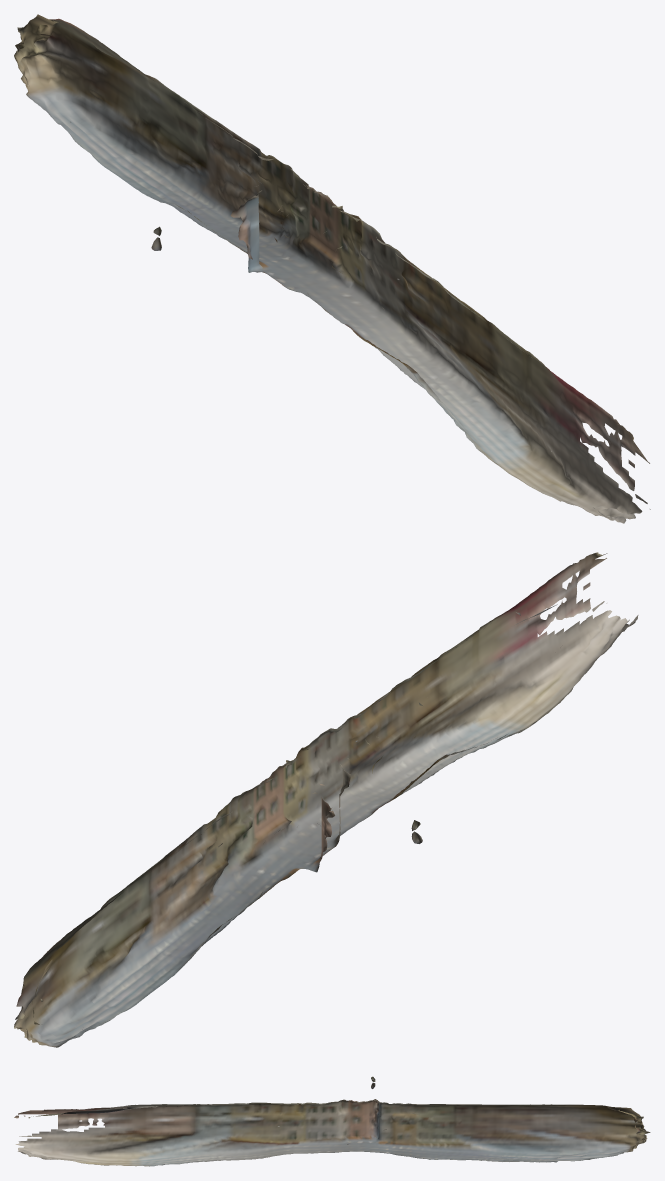
File: collider.glb
3 renders of one model, top to bottom at view 1: azimuth 30°, elevation 25°; view 2: azimuth 150°, elevation 25°; view 3: azimuth 270°, elevation 25°, orthographic. The views are drawn at different scales.
Parts seen in each view (by area): view 1: world; view 2: world; view 3: world.
Boxes of the visible parts, x1,y1,x2,y2 form: world: (14, 14, 650, 523); world: (14, 552, 638, 1047); world: (14, 1076, 650, 1166).
Bounding box in the file's own units: 7.83 × 4.88 × 48.79.
